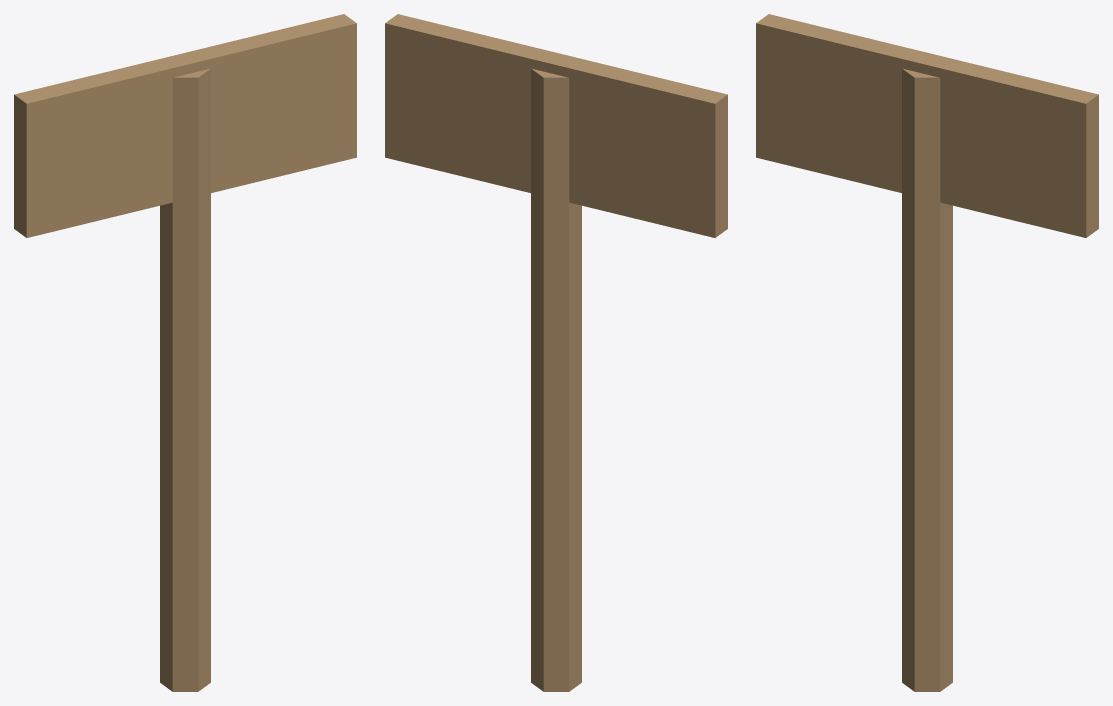
The model's file is sign.fbx.
The picture shows the model from 3 angles, left to right: view 1: azimuth 30°, elevation 25°; view 2: azimuth 150°, elevation 25°; view 3: azimuth 330°, elevation 25°; orthographic projection.
Visible parts, largest first — view 1: Board, Post; view 2: Board, Post; view 3: Board, Post.
Part boxes in pixels (x1,y1,x2,y2): Board: (14, 14, 356, 237); Post: (160, 68, 210, 691); Board: (385, 14, 727, 237); Post: (531, 68, 581, 691); Board: (756, 14, 1098, 237); Post: (902, 68, 952, 691).
Size of the model in its own units: 0.9 by 1.63 by 0.12.
